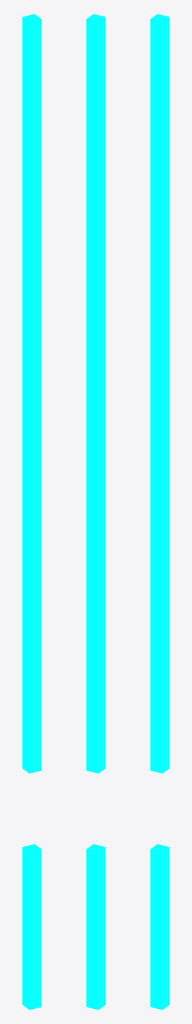
File: ArchiverExitStrand.fbx
The picture shows the model from 3 angles, left to right: view 1: azimuth 30°, elevation 25°; view 2: azimuth 150°, elevation 25°; view 3: azimuth 330°, elevation 25°; orthographic projection.
Parts seen in each view (by area): view 1: Cube, Cube.001; view 2: Cube, Cube.001; view 3: Cube, Cube.001.
Boxes of the visible parts, <box> form: Cube: <box>22,14,41,773</box>; Cube.001: <box>22,844,41,1009</box>; Cube: <box>86,14,105,773</box>; Cube.001: <box>86,844,105,1009</box>; Cube: <box>150,14,169,773</box>; Cube.001: <box>150,844,169,1009</box>.
Size of the model in its own units: 17.61 by 1376 by 17.61.
